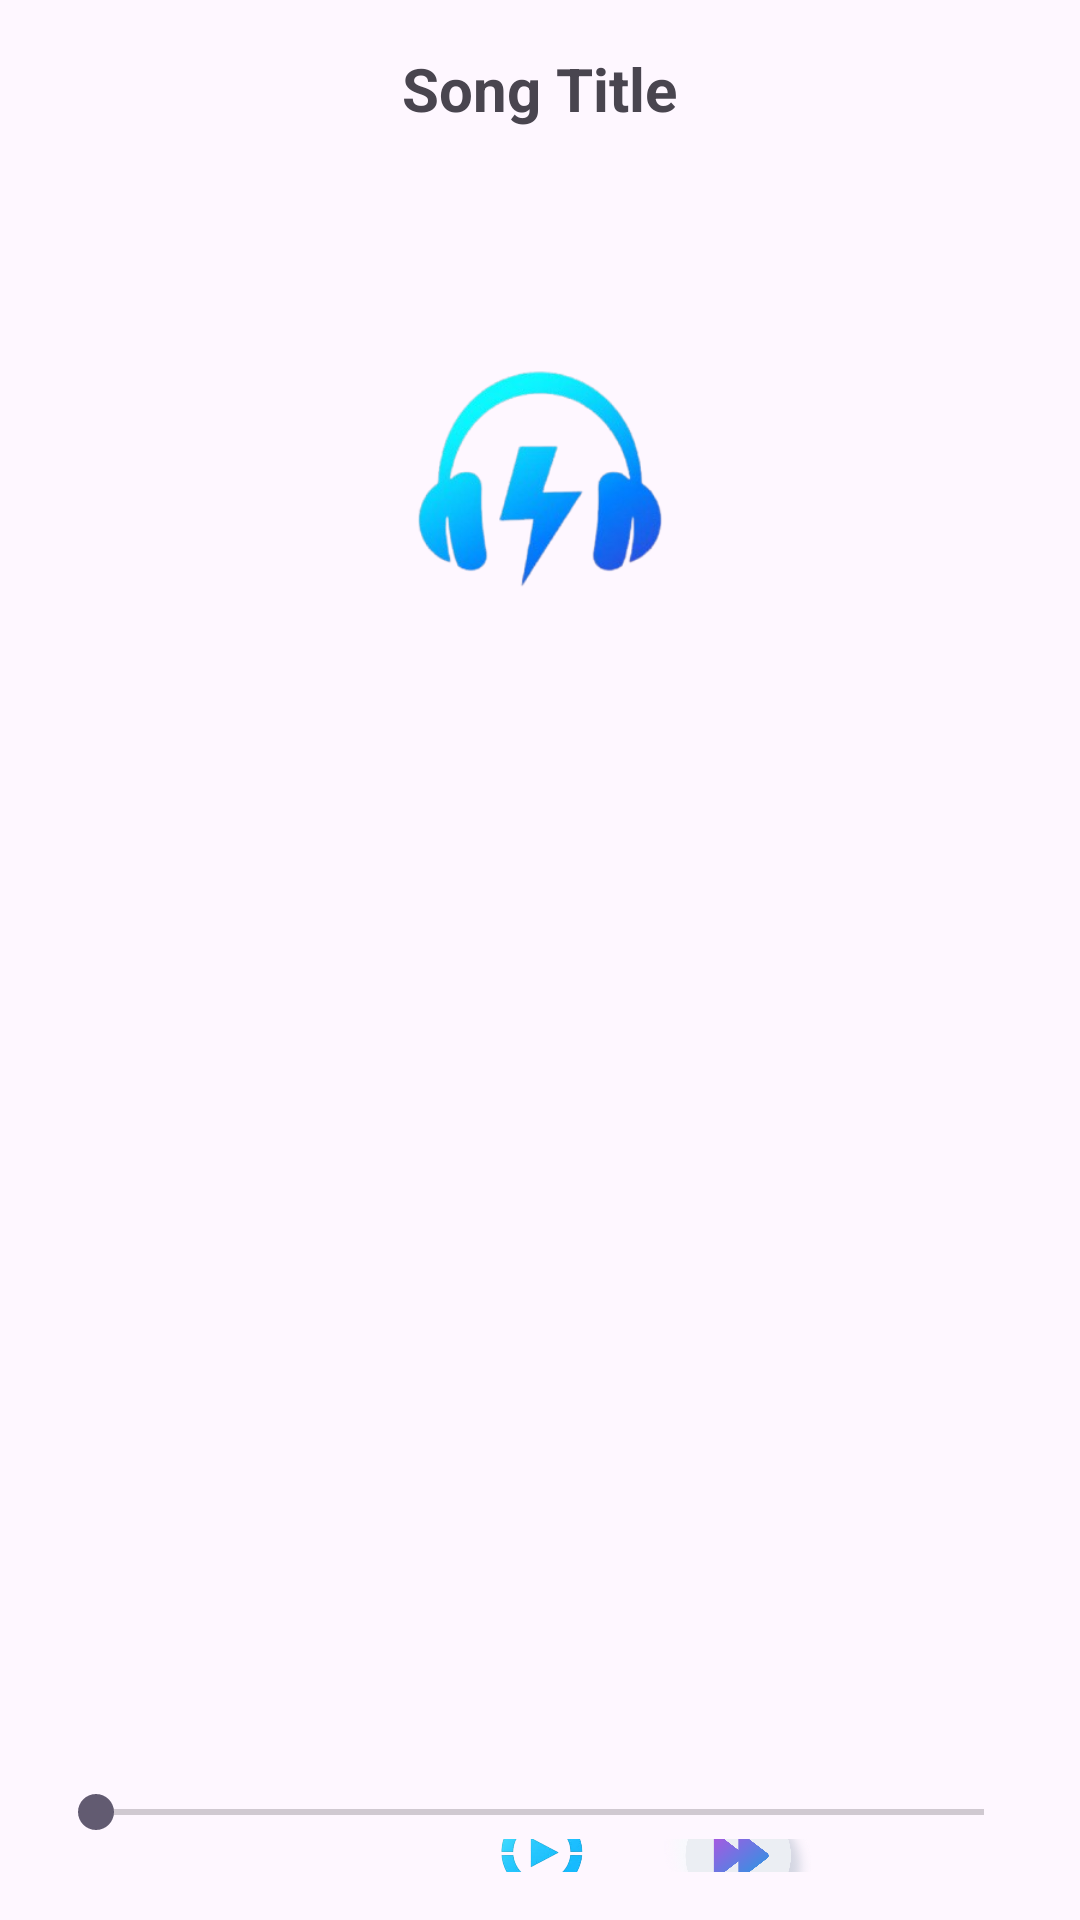

Screen size 1080×1920. Icon name, then its box in pixels as (x1, y1, x2, y2):
music: (418, 371, 662, 586)
